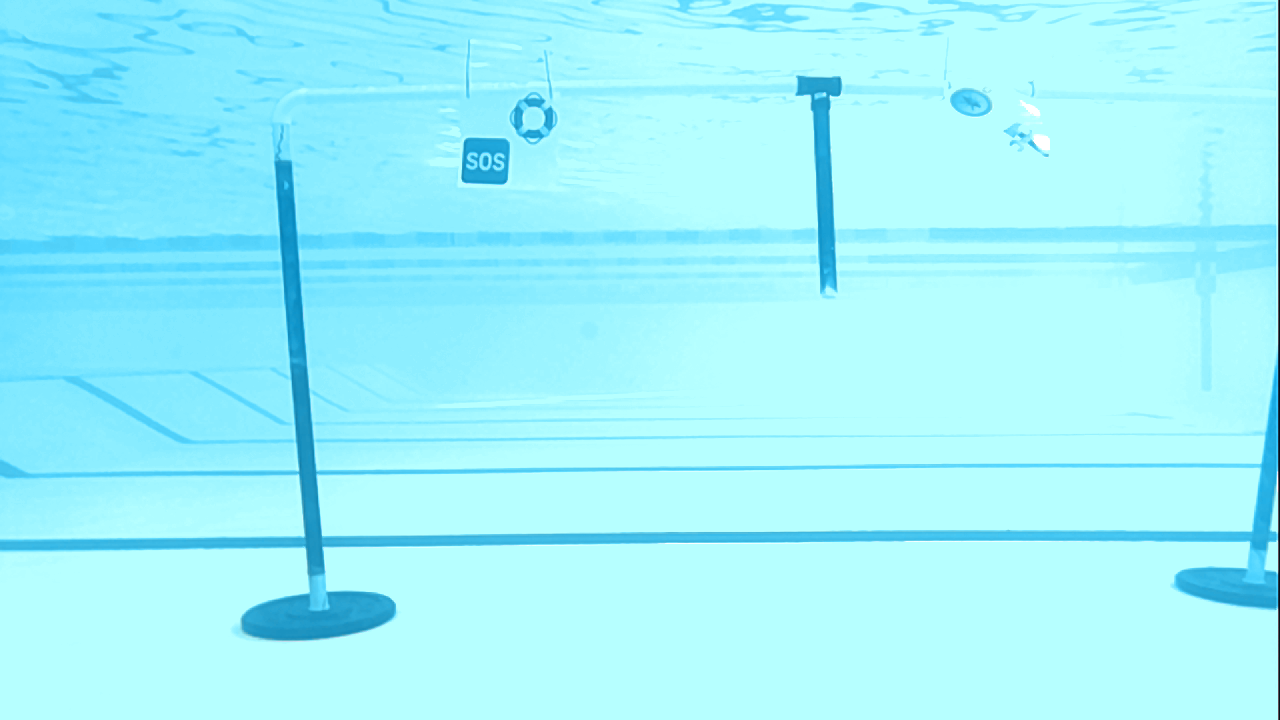compass_hammer: (940, 84, 1057, 174)
gate_leg_center: (792, 74, 849, 294)
gate_leg_l: (269, 157, 327, 579)
sos_safety: (455, 90, 562, 192)
